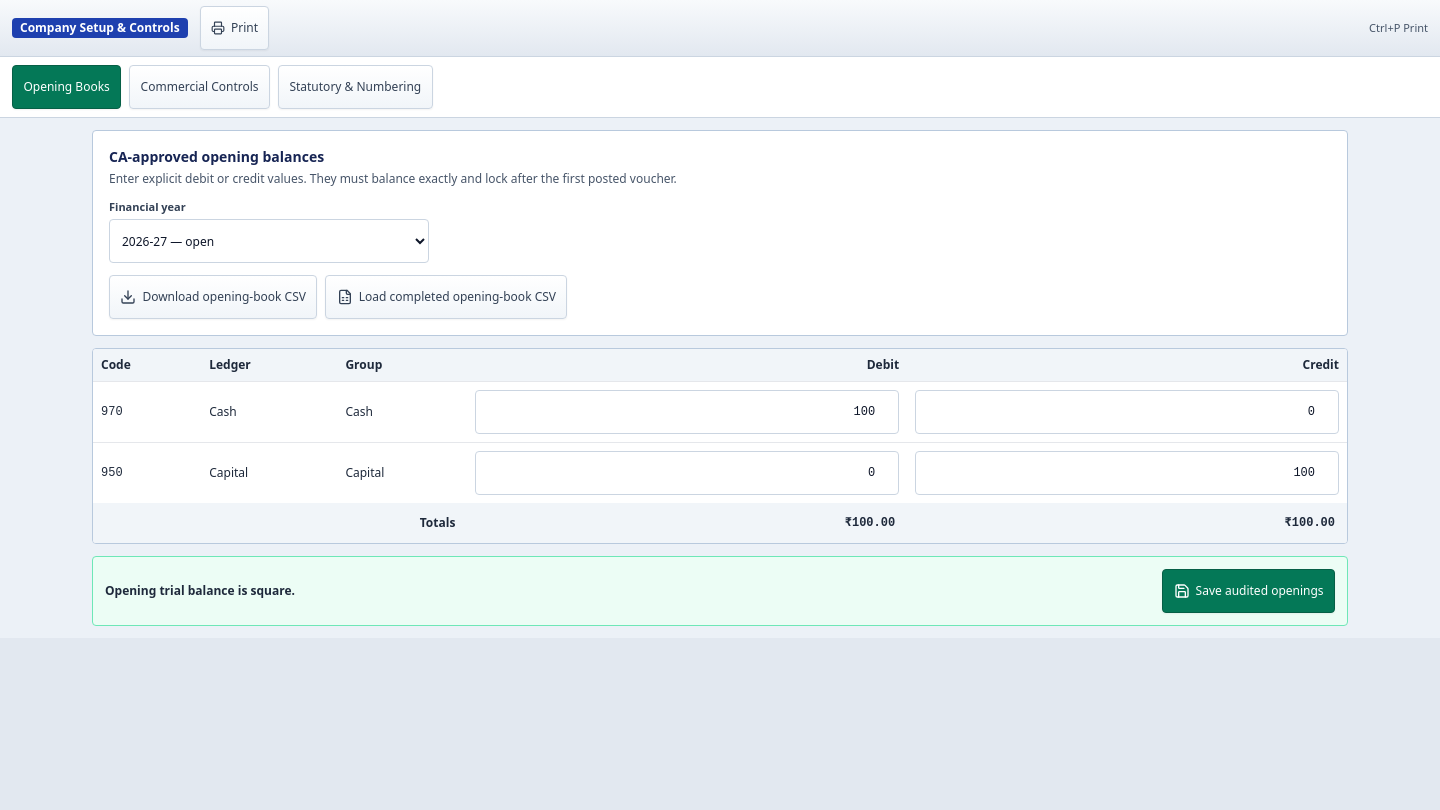
Test case: CompanySetupView › opening controls have accessible names and refuse an unbalanced save
Expected: the number field named "Debit opening for Cash" holds "100", 475,390 -> 899,434
Expected: the button "Save audited openings" is enabled, 1162,569 -> 1335,613
Replace the text in the number field named "Credit opening for Capital" with "90". click: (1127, 473)
box: 915,451 -> 1339,495
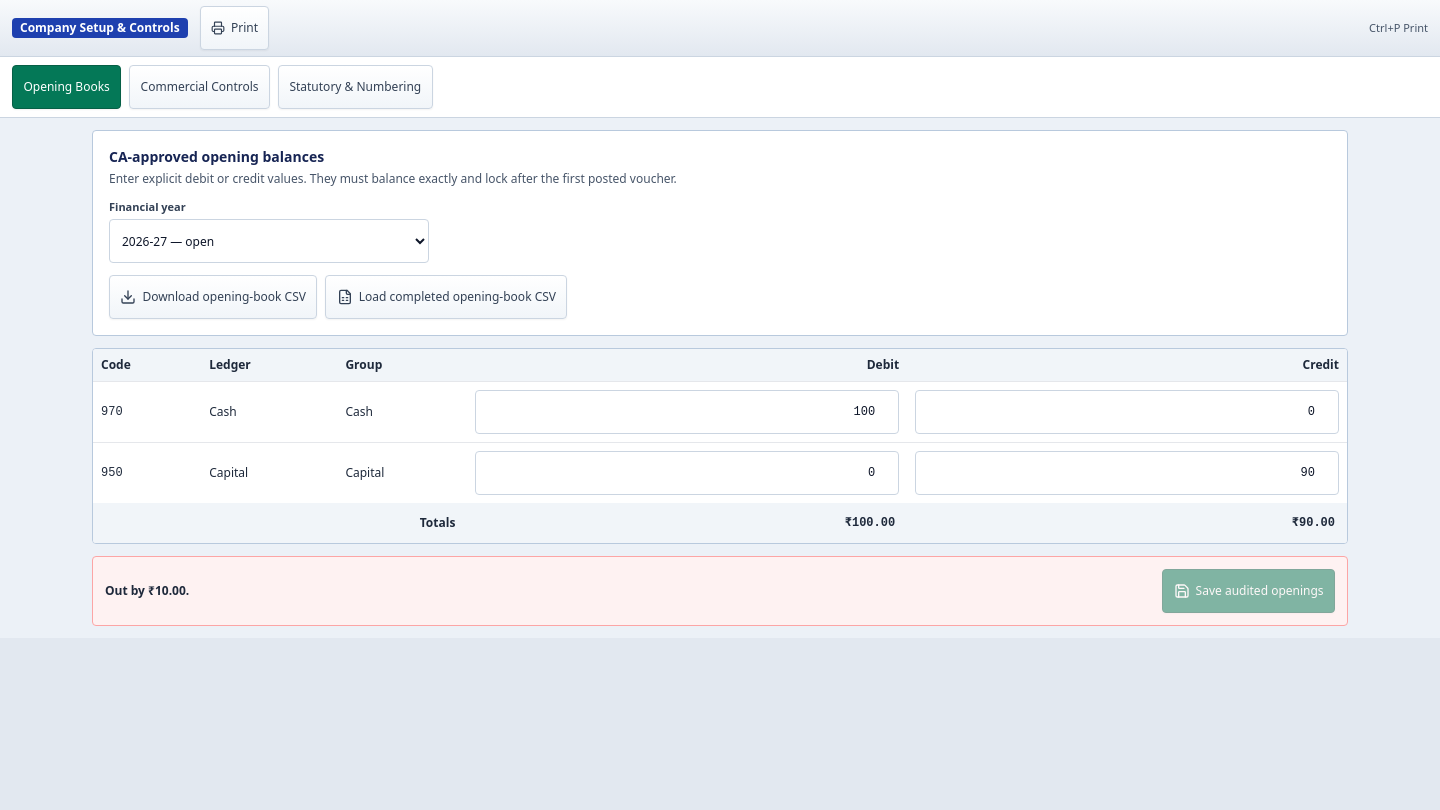
Now the text "Out by ₹10.00." is shown, box 105,583 -> 189,599
Now the button "Save audited openings" is disabled, box 1162,569 -> 1335,613
